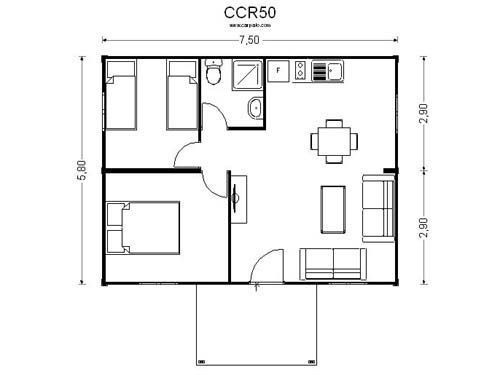door: (245, 242, 283, 283), (197, 96, 233, 135), (198, 169, 232, 201), (166, 138, 199, 168)
room: (195, 51, 400, 178), (218, 156, 406, 289), (97, 166, 237, 283), (99, 48, 204, 170)
wall: (104, 51, 398, 62), (389, 56, 401, 281), (97, 58, 108, 287), (107, 276, 249, 288), (223, 168, 235, 283), (106, 164, 201, 176)
